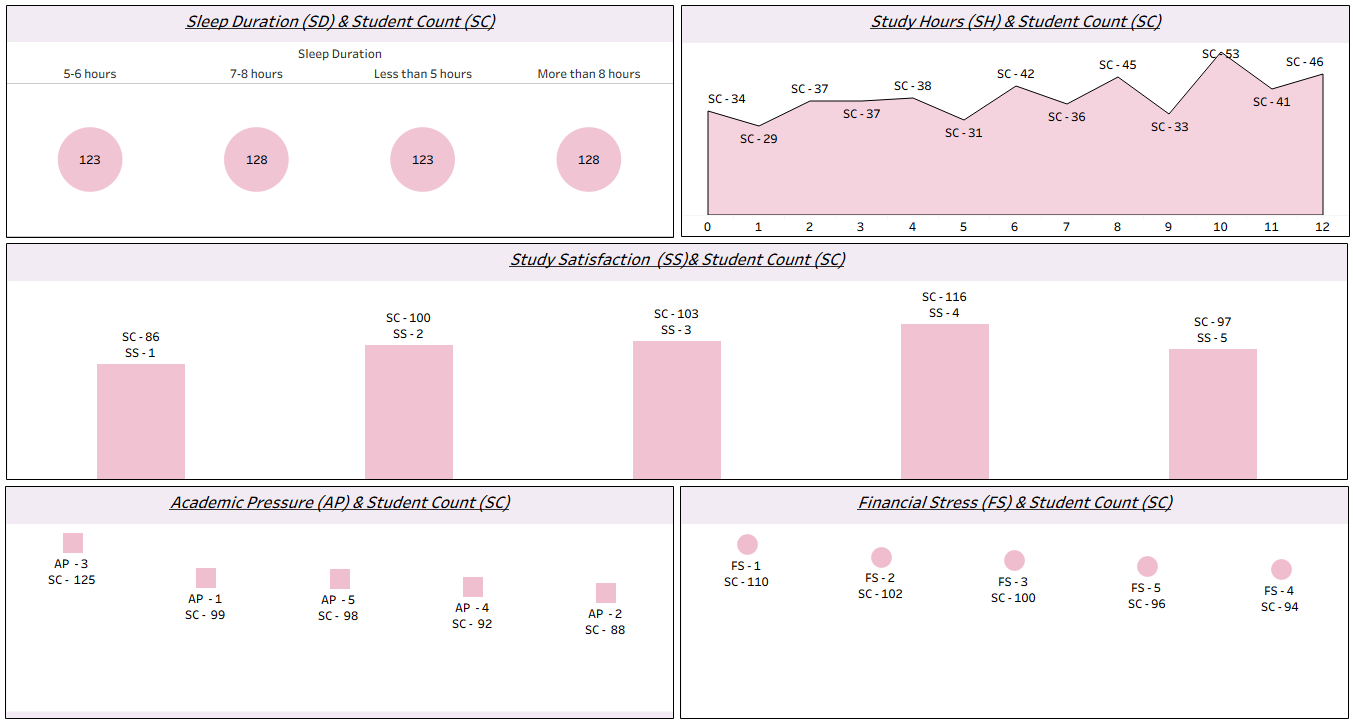

Layout of this report page (visuals, bound fields, positions):
{"tool":"tableau","page":{"name":"Student Count Analysis","canvas":[1000,1000],"units":"permille","ordinal":0},"visuals":[{"type":"worksheet","title":"SD & SC","mark":"Pie","cols":["Sleep_Duration"],"box":[13.8,13.5,489.2,315.9]},{"type":"worksheet","title":"SH & SC","mark":"Area","rows":["Index_Column"],"cols":["Study_Hours"],"box":[508.2,13.5,490,314.2]},{"type":"worksheet","title":"SS & SC","mark":"Automatic","rows":["Index_Column"],"cols":["Study_Satisfaction"],"box":[13.8,336.2,982.7,320.9]},{"type":"worksheet","title":"AP & SC","mark":"Square","rows":["Index_Column"],"cols":["Academic_Pressure"],"box":[13,665.5,490,315.9]},{"type":"worksheet","title":"FS & SC","mark":"Circle","rows":["Index_Column"],"cols":["Financial_Stress"],"box":[507.4,665.5,490,315.9]}]}

Visuals, with their boxes on the dashboard's canvas, which has no fixed pixel size, in thousandths of its width and height (x1, y1, x2, y2). These are canvas units, not pixel positions in the 1353x723 screenshot, which may show the page scaled, cropped or inside an application window:
"SD & SC" worksheet (Pie marks): x1=14 y1=14 x2=503 y2=329
"SH & SC" worksheet (Area marks): x1=508 y1=14 x2=998 y2=328
"SS & SC" worksheet: x1=14 y1=336 x2=996 y2=657
"AP & SC" worksheet (Square marks): x1=13 y1=666 x2=503 y2=981
"FS & SC" worksheet (Circle marks): x1=507 y1=666 x2=997 y2=981
